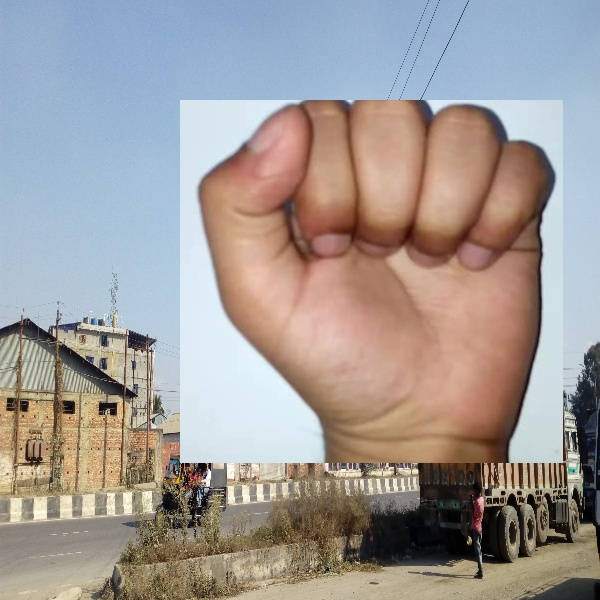F: (180, 100, 563, 463)
